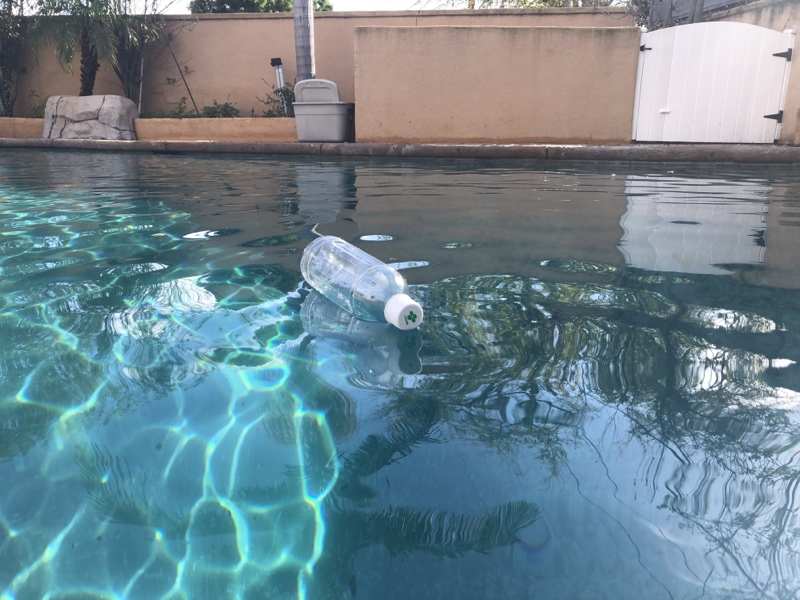Plastic Bottle: (296, 233, 423, 336)
